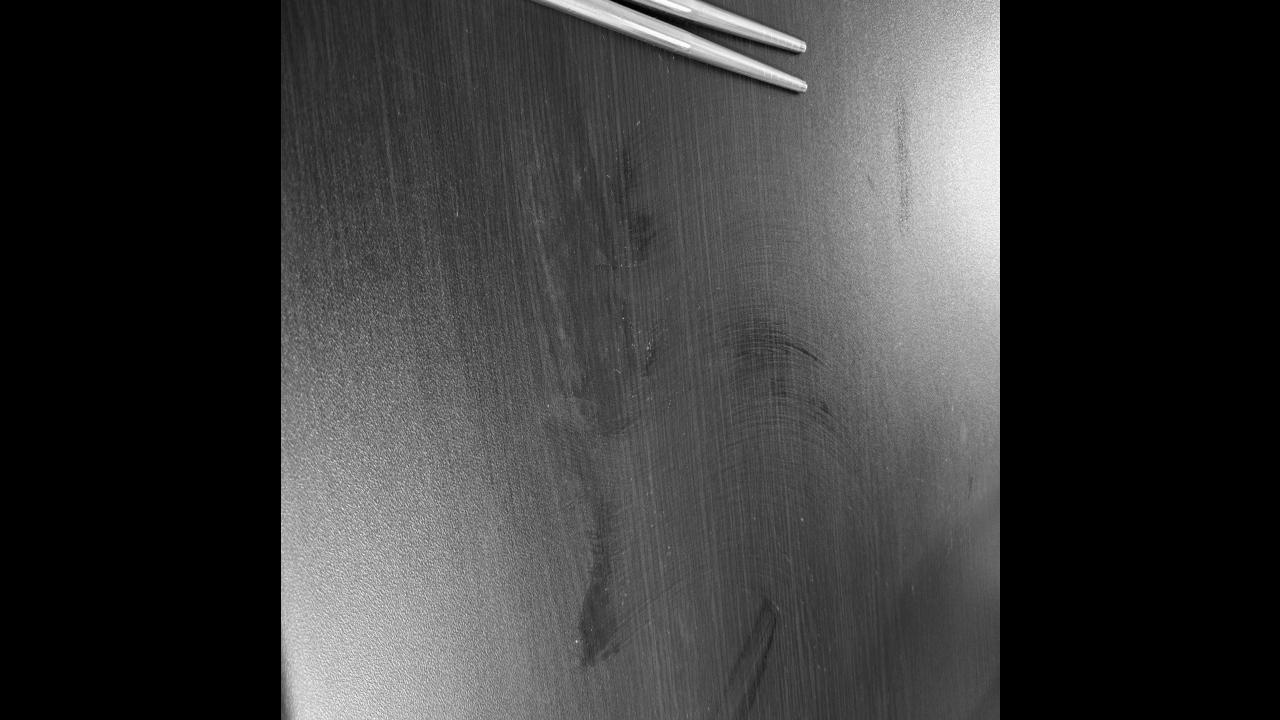chopstick: (382, 0, 808, 91)
